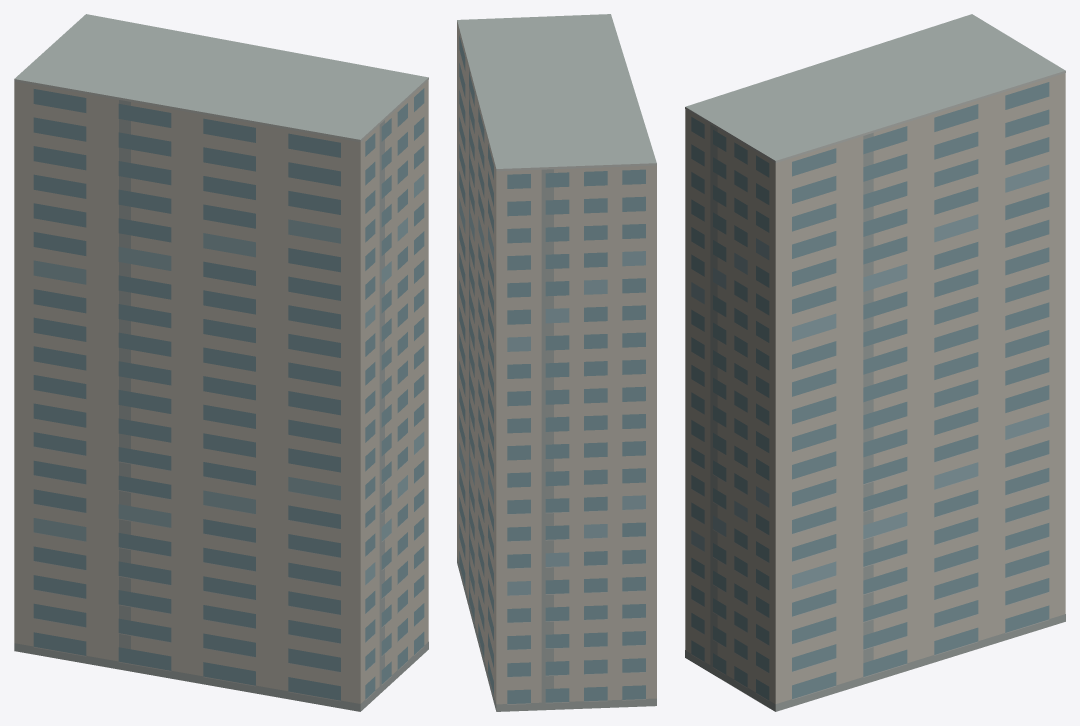
The model's file is residential-8eb2fb4d-d675-4322-9c2a-64e344bfd644.glb.
3 renders of one model, left to right at view 1: azimuth 30°, elevation 25°; view 2: azimuth 150°, elevation 25°; view 3: azimuth 270°, elevation 25°, orthographic. The views are drawn at different scales.
Visible parts, largest first — view 1: residential-8eb2fb4d-d675-4322-9c2a-64e344bfd644.tmp; view 2: residential-8eb2fb4d-d675-4322-9c2a-64e344bfd644.tmp; view 3: residential-8eb2fb4d-d675-4322-9c2a-64e344bfd644.tmp.
Part boxes in pixels (x1=…): residential-8eb2fb4d-d675-4322-9c2a-64e344bfd644.tmp: x1=14, y1=14, x2=428, y2=711; residential-8eb2fb4d-d675-4322-9c2a-64e344bfd644.tmp: x1=457, y1=14, x2=656, y2=711; residential-8eb2fb4d-d675-4322-9c2a-64e344bfd644.tmp: x1=685, y1=14, x2=1065, y2=711.
Bounding box in the file's own units: 33.17 × 58 × 36.32.
